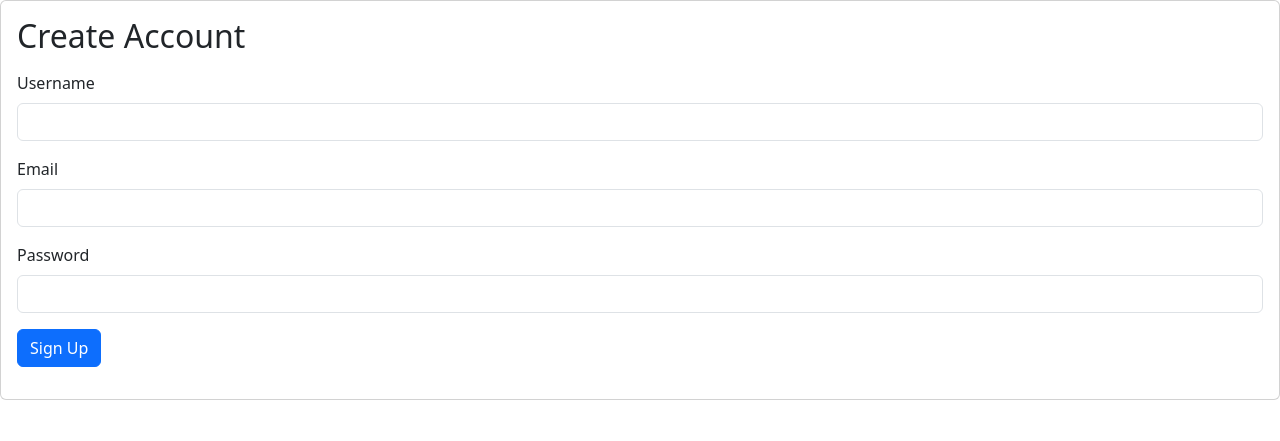
Test: TCID-02: asks for a username when it is missing
This screenshot has width=1280, height=441.
Type "ritam@example.com" into the field labelled "Email".
click(640, 208); type("ritam@example.com")  # box [17,189,1263,227]
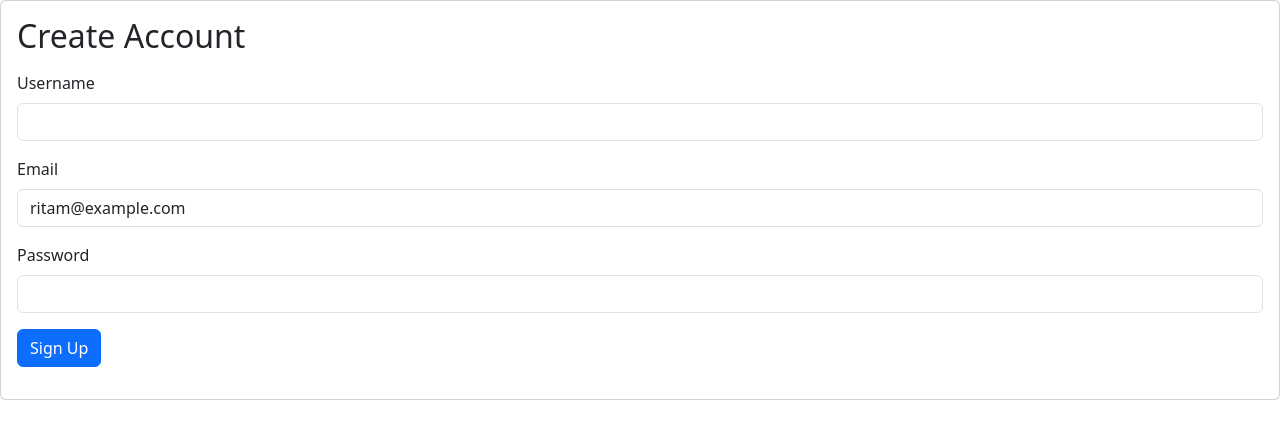
Type "test-password-123" into the password field labelled "Password".
click(640, 294); type("test-password-123")  # box [17,275,1263,313]
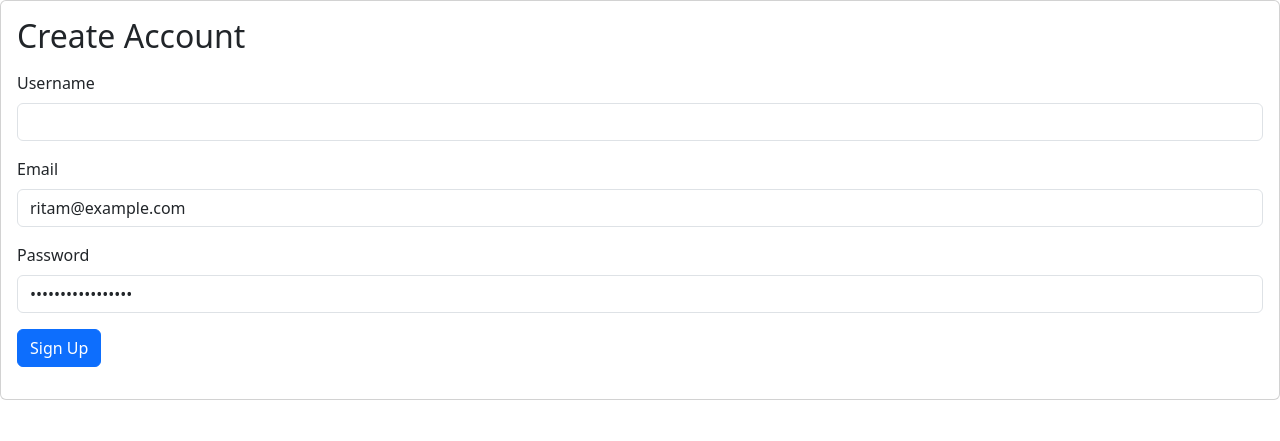
Click the button "Sign Up".
click(59, 348)  # box [17,329,101,367]
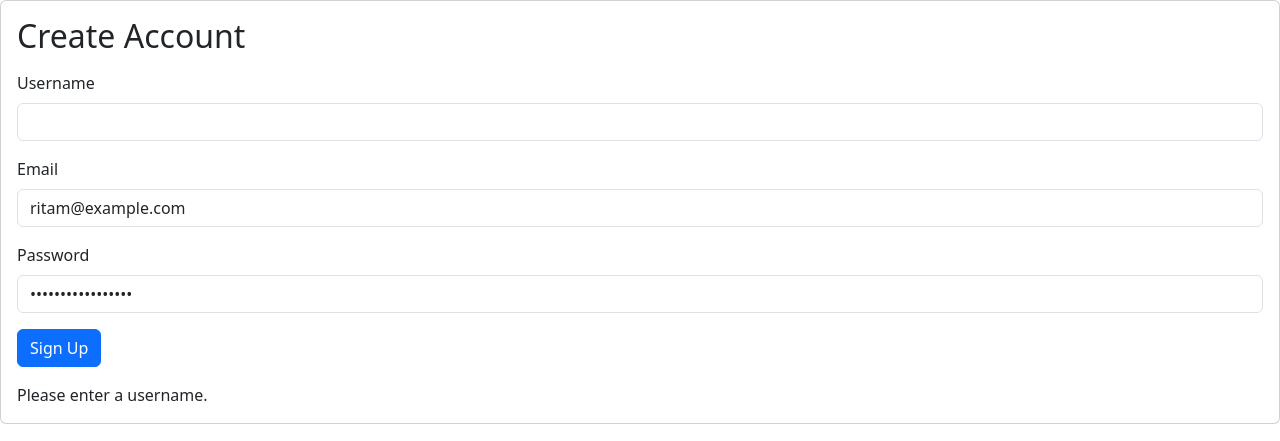
Now the text "Please enter a username." is shown, box [17,384,208,406]
